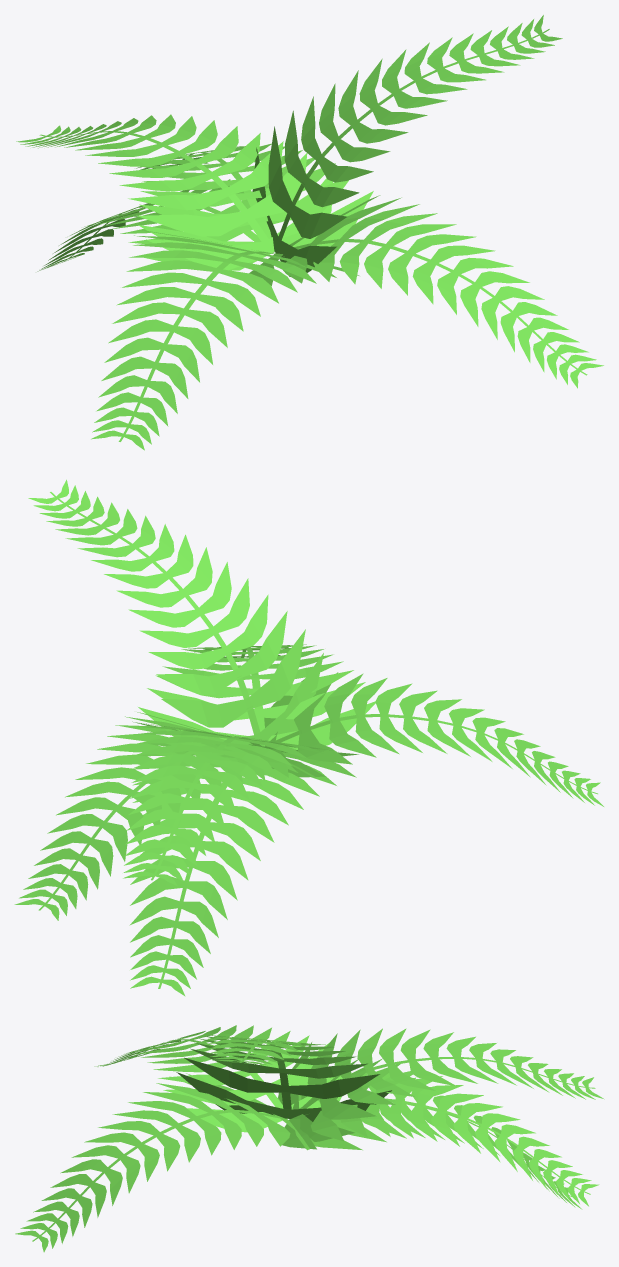
Rendered from Fern 2.fbx.
The picture shows the model from 3 angles, top to bottom: view 1: azimuth 30°, elevation 25°; view 2: azimuth 150°, elevation 25°; view 3: azimuth 270°, elevation 25°; orthographic projection. The views are drawn at different scales.
Parts seen in each view (by area): view 1: Fern 2|Fern Leaf 1|Dupli|1, Fern 2|Fern Leaf 1|Dupli|3, Fern 2|Fern Leaf 1|Dupli|4, Fern 2|Fern Leaf 1|Dupli|2, Fern 2|Fern Leaf 1|Dupli|, Fern 2|Fern Leaf 1|Dupli|5; view 2: Fern 2|Fern Leaf 1|Dupli|1, Fern 2|Fern Leaf 1|Dupli|5, Fern 2|Fern Leaf 1|Dupli|3, Fern 2|Fern Leaf 1|Dupli|4, Fern 2|Fern Leaf 1|Dupli|, Fern 2|Fern Leaf 1|Dupli|2; view 3: Fern 2|Fern Leaf 1|Dupli|2, Fern 2|Fern Leaf 1|Dupli|4, Fern 2|Fern Leaf 1|Dupli|, Fern 2|Fern Leaf 1|Dupli|1, Fern 2|Fern Leaf 1|Dupli|3, Fern 2|Fern Leaf 1|Dupli|5.
Part boxes in pixels (x1=…): Fern 2|Fern Leaf 1|Dupli|1: x1=252, y1=15, x2=562, y2=276; Fern 2|Fern Leaf 1|Dupli|3: x1=91, y1=230, x2=359, y2=450; Fern 2|Fern Leaf 1|Dupli|4: x1=16, y1=114, x2=332, y2=270; Fern 2|Fern Leaf 1|Dupli|2: x1=249, y1=195, x2=603, y2=388; Fern 2|Fern Leaf 1|Dupli|: x1=136, y1=143, x2=373, y2=252; Fern 2|Fern Leaf 1|Dupli|5: x1=37, y1=179, x2=283, y2=271; Fern 2|Fern Leaf 1|Dupli|1: x1=28, y1=479, x2=323, y2=767; Fern 2|Fern Leaf 1|Dupli|5: x1=129, y1=743, x2=356, y2=996; Fern 2|Fern Leaf 1|Dupli|3: x1=264, y1=672, x2=603, y2=806; Fern 2|Fern Leaf 1|Dupli|4: x1=123, y1=721, x2=358, y2=886; Fern 2|Fern Leaf 1|Dupli|: x1=14, y1=712, x2=315, y2=920; Fern 2|Fern Leaf 1|Dupli|2: x1=138, y1=644, x2=375, y2=749; Fern 2|Fern Leaf 1|Dupli|2: x1=15, y1=1073, x2=319, y2=1252; Fern 2|Fern Leaf 1|Dupli|4: x1=278, y1=1028, x2=604, y2=1141; Fern 2|Fern Leaf 1|Dupli|: x1=282, y1=1058, x2=599, y2=1206; Fern 2|Fern Leaf 1|Dupli|1: x1=176, y1=1034, x2=391, y2=1121; Fern 2|Fern Leaf 1|Dupli|3: x1=94, y1=1025, x2=351, y2=1132; Fern 2|Fern Leaf 1|Dupli|5: x1=277, y1=1067, x2=582, y2=1209.
Bounding box in the file's own units: 829 × 460 × 915.
